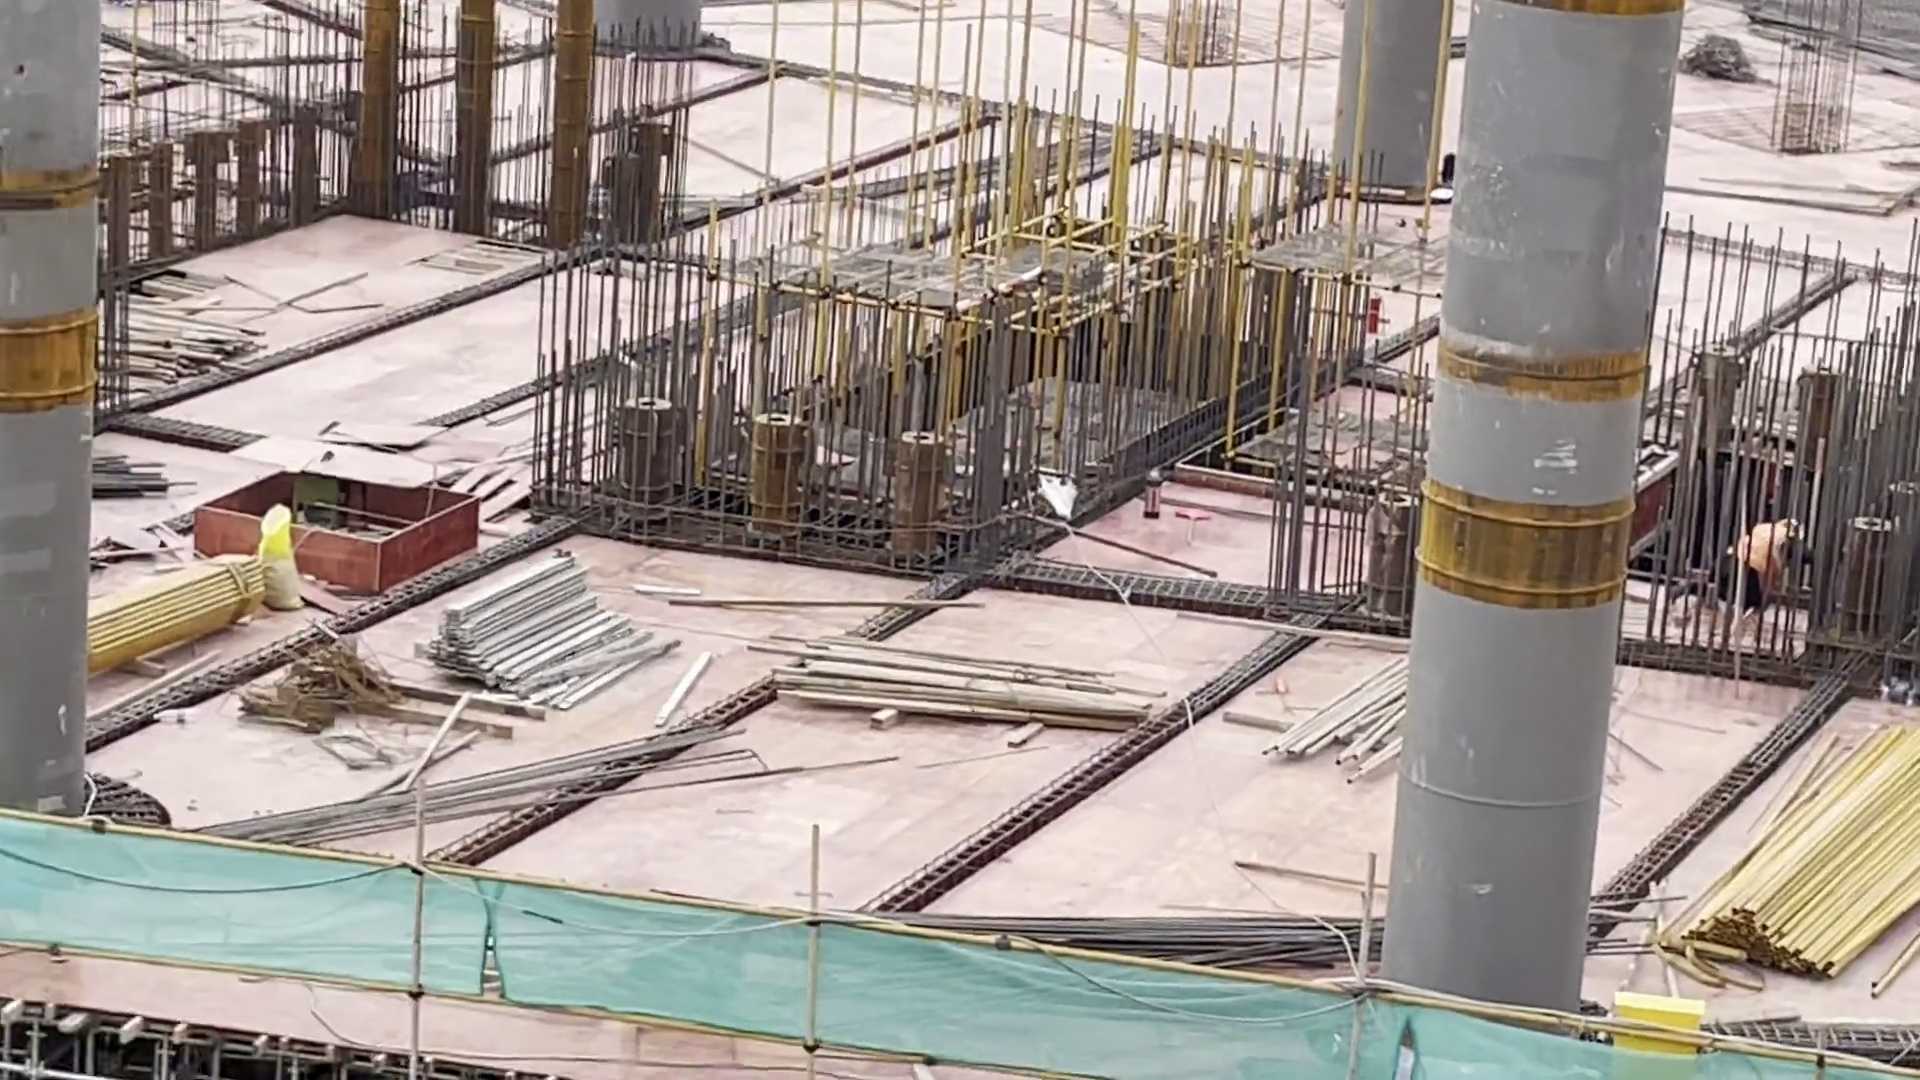ebox: (1611, 985, 1706, 1080)
person: (1717, 505, 1811, 623)
wood: (131, 285, 277, 386)
